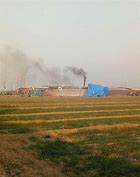smoke: (53, 60, 87, 78)
